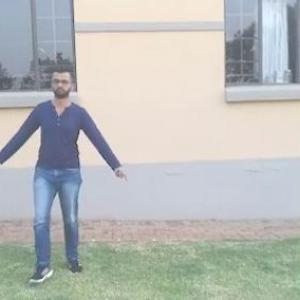land: (0, 66, 128, 290)
